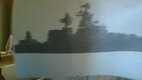tau_muctieu: (13, 1, 141, 54)
